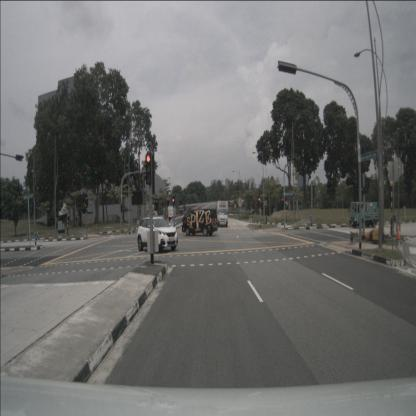cone: (396, 222, 402, 240)
